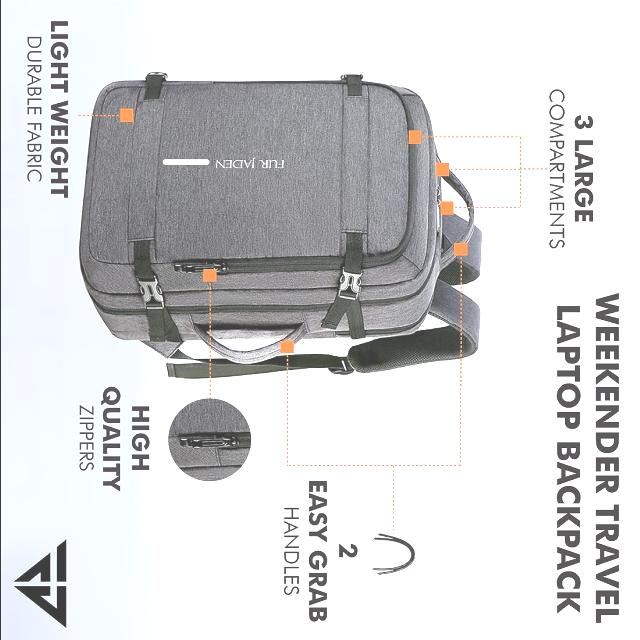backpack: (80, 74, 484, 380)
